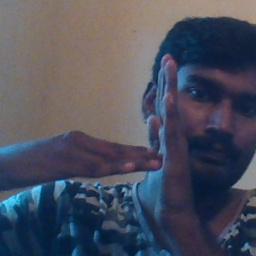Z: (86, 49, 199, 223)
